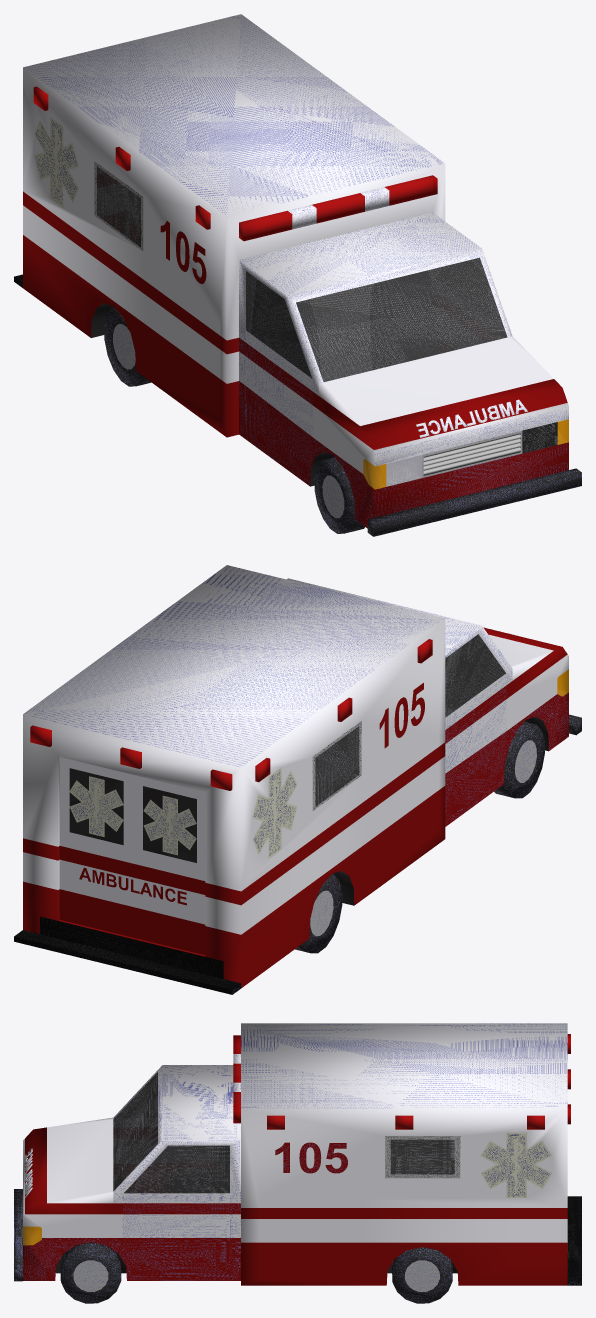
File: ATS_Ambulance_car.dae
3 renders of one model, top to bottom at view 1: azimuth 30°, elevation 25°; view 2: azimuth 150°, elevation 25°; view 3: azimuth 270°, elevation 25°, orthographic. The views are drawn at different scales.
Visible parts, largest first — view 1: SketchUp (×22), SUV_tire (×2), Medium_wheel (×2), Star_of_Life, instance_43; view 2: SketchUp (×17), Star_of_Life (×4), SUV_tire (×2), Medium_wheel (×2), instance_43; view 3: SketchUp (×17), SUV_tire (×4), Star_of_Life (×2), instance_44.
Part boxes in pixels (x1,y1,x2,y2): SketchUp (×22): (23,14,581,536); SUV_tire (×2): (314,457,364,533); Medium_wheel (×2): (104,307,151,386); Star_of_Life: (35,119,77,205); instance_43: (160,221,206,283); SketchUp (×17): (14,565,568,994); Star_of_Life (×4): (71,767,296,858); SUV_tire (×2): (494,722,544,798); Medium_wheel (×2): (295,873,342,953); instance_43: (379,683,424,748); SketchUp (×17): (14,1023,581,1285); SUV_tire (×4): (60,1242,452,1303); Star_of_Life (×2): (480,1132,552,1197); instance_44: (275,1142,347,1173).
Bounding box in the file's own units: 91.87 × 250 × 98.2.
